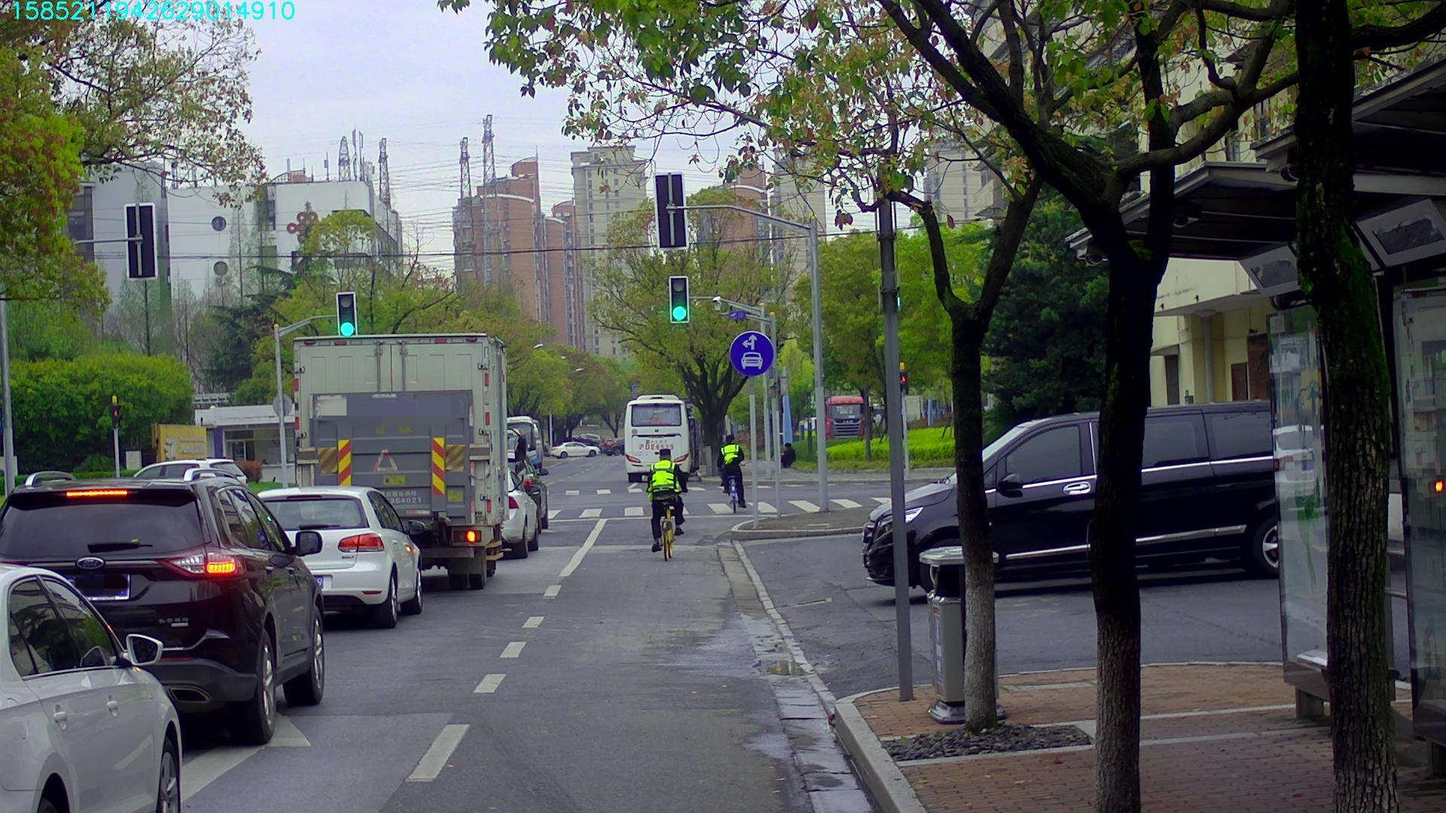green: (337, 291, 355, 334), (670, 277, 687, 322)
